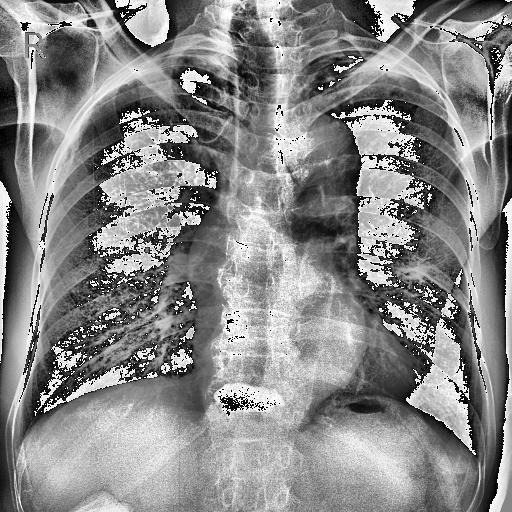0- Aortic enlargement: (268, 106, 356, 216), (282, 116, 360, 202), (277, 111, 359, 191)
11- Pleural thickening: (116, 42, 233, 84), (326, 51, 428, 86), (126, 48, 220, 76), (366, 49, 418, 79), (357, 50, 414, 74), (106, 64, 161, 82)
9- Other lesion: (214, 384, 290, 418), (213, 380, 282, 412)
